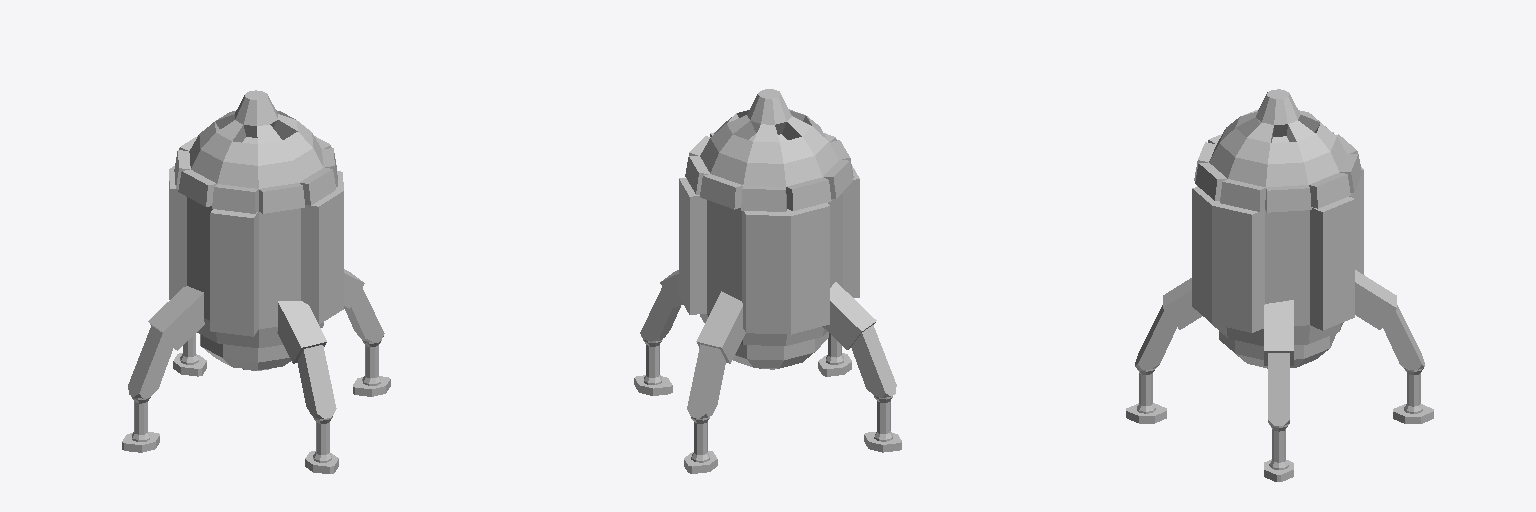
The model's file is uranus_lander.obj.
The picture shows the model from 3 angles: view 1: azimuth 30°, elevation 25°; view 2: azimuth 150°, elevation 25°; view 3: azimuth 270°, elevation 25°; orthographic projection.
Visible parts, largest first — view 1: Capsule001, OneLeg, FourLeg, ThreeLeg, TwoLeg; view 2: Capsule001, TwoLeg, OneLeg, ThreeLeg, FourLeg; view 3: Capsule001, ThreeLeg, TwoLeg, FourLeg.
Part boxes in pixels (left/top/right/bottom): Capsule001: left=169, top=90, right=343, bottom=370; OneLeg: left=122, top=286, right=204, bottom=452; FourLeg: left=277, top=301, right=338, bottom=473; ThreeLeg: left=344, top=269, right=390, bottom=396; TwoLeg: left=173, top=334, right=206, bottom=376; Capsule001: left=679, top=89, right=859, bottom=369; TwoLeg: left=684, top=291, right=745, bottom=473; OneLeg: left=822, top=282, right=901, bottom=452; ThreeLeg: left=634, top=270, right=682, bottom=395; FourLeg: left=818, top=333, right=851, bottom=376; Capsule001: left=1192, top=89, right=1363, bottom=368; ThreeLeg: left=1264, top=300, right=1293, bottom=481; TwoLeg: left=1355, top=270, right=1433, bottom=423; FourLeg: left=1126, top=278, right=1201, bottom=423.
Bounding box in the file's own units: 32.97 × 38.26 × 33.06.